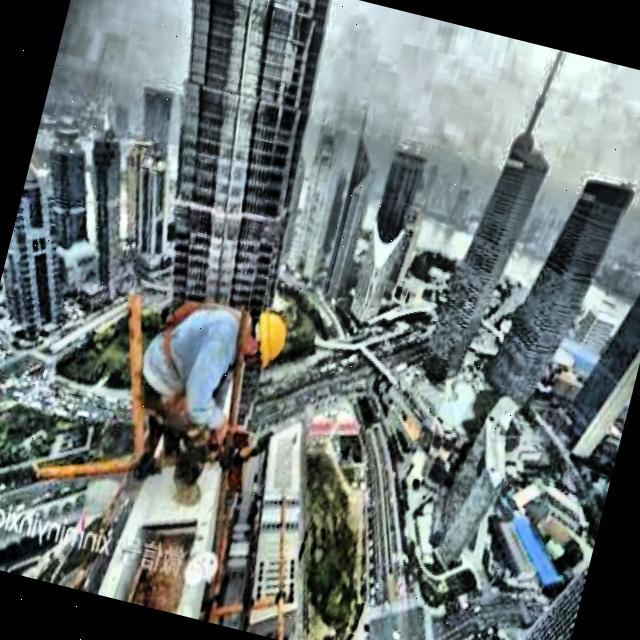helmet: (236, 299, 294, 377)
